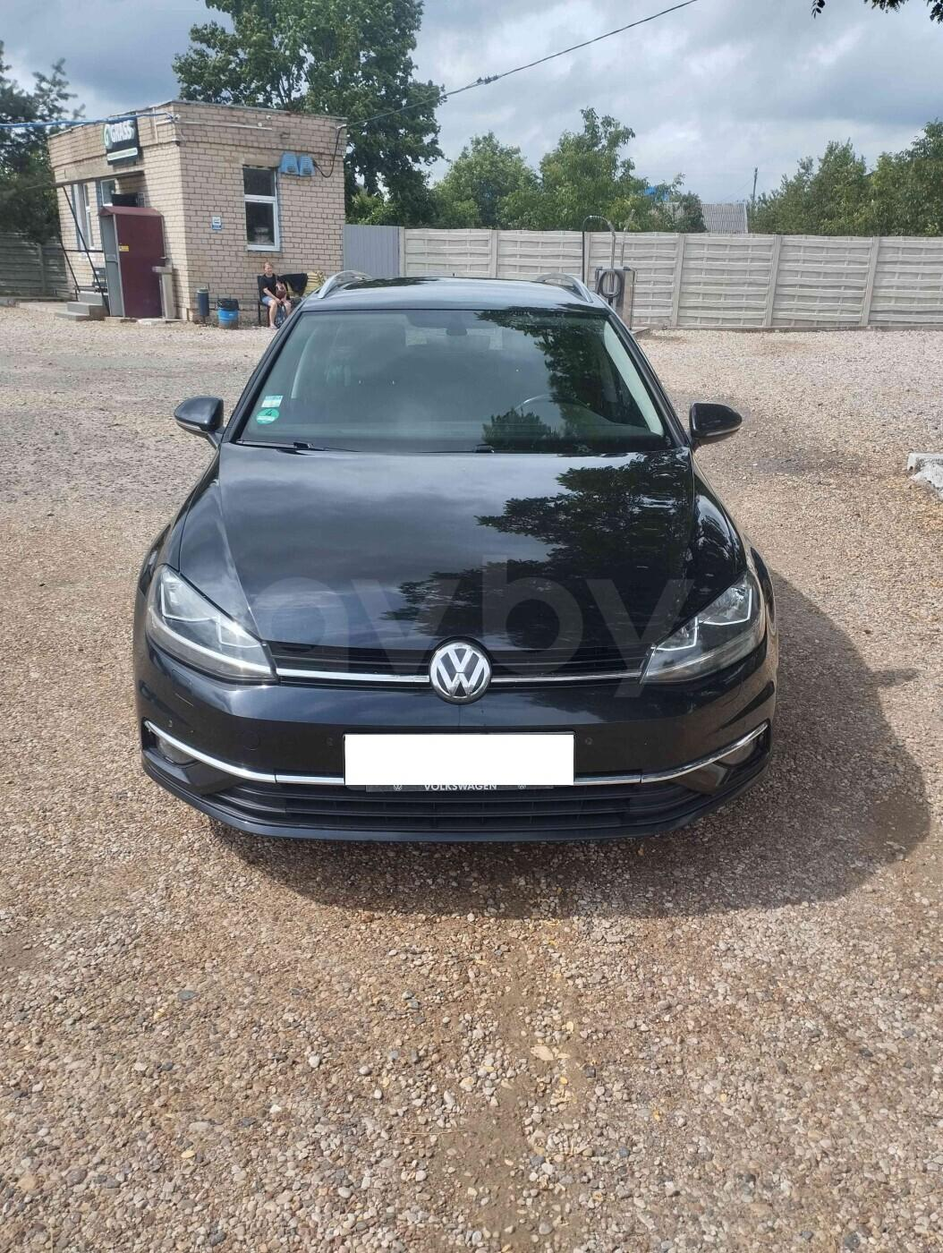Golf_2017-2021: (123, 264, 787, 832)
